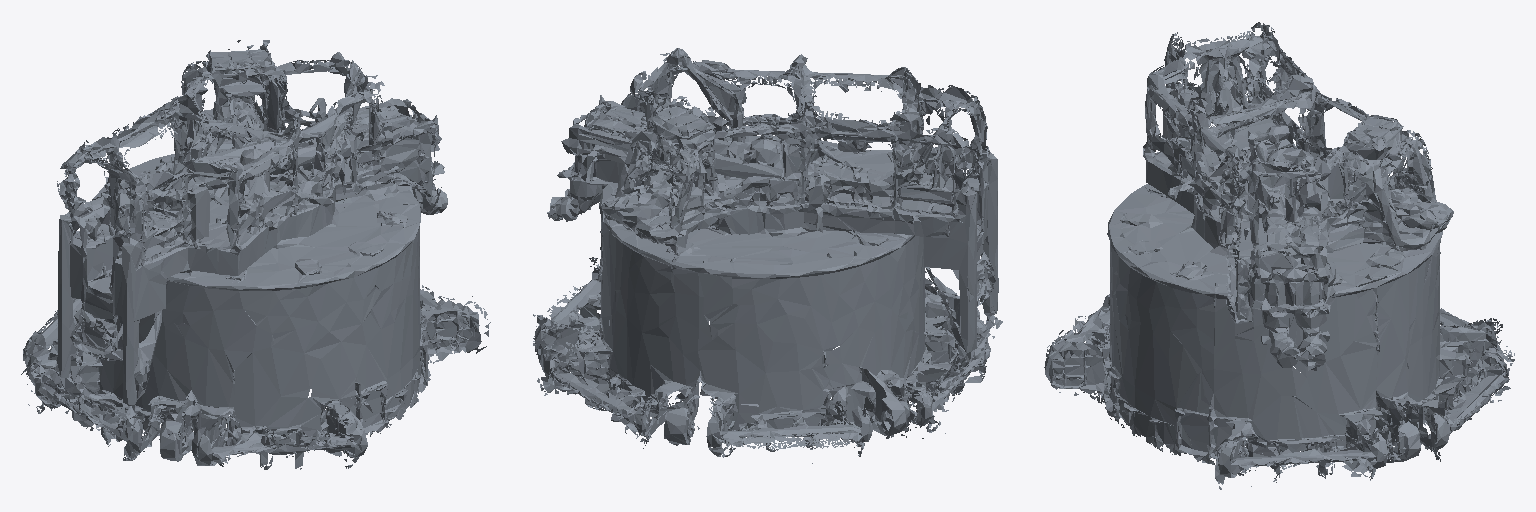
The robot description file, URDF, robot "durius":
<?xml version="1.0"?>
<robot name="durius">
  <link name="base_link">
    <visual>
      <origin xyz="-0.623164 0.279401 -0.023381" rpy="0 0 0"/>
      <geometry>
        <mesh filename="package://asv_simulator/models/durius/meshes/DURIUS_simplified.stl" scale="1 1 1"/>
      </geometry>
      <material name="durius_material">
        <color rgba="0.55 0.58 0.62 1"/>
      </material>
    </visual>
  </link>
</robot>

--- Render facts (derived) ---
3 views of the same robot in one strip: view 1: azimuth 30°, elevation 25°; view 2: azimuth 150°, elevation 25°; view 3: azimuth 270°, elevation 25° (orthographic).
Model durius with 1 links and 0 joints (none), rooted at base_link, posed every joint at zero.
Visible links, largest first — view 1: base_link; view 2: base_link; view 3: base_link.
Link boxes in pixels (x1=…): base_link: x1=21, y1=40, x2=490, y2=469; base_link: x1=533, y1=48, x2=1002, y2=463; base_link: x1=1044, y1=22, x2=1514, y2=489.
Bounding box of the posed robot: 17.84 × 17.17 × 12.38 m (x, y, z).
1 mesh visuals loaded from 1 distinct referenced files (1 binary STL).
